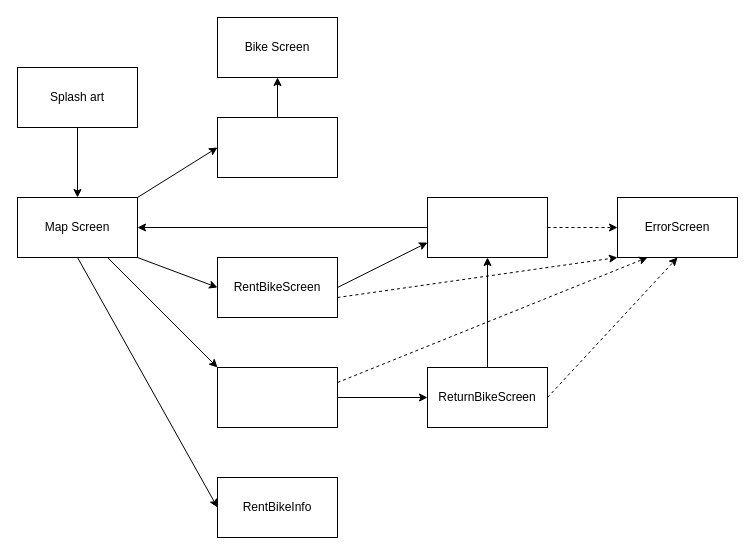
The diagram is 755 pixels wide and 555 high, and some of its shapes have lost their labels. Each missing label, with the centre of its shape:
"Dock Screen" belongs at point (277, 147).
"PaymentForm" belongs at point (487, 227).
"RentalCodeScreen" belongs at point (277, 397).
